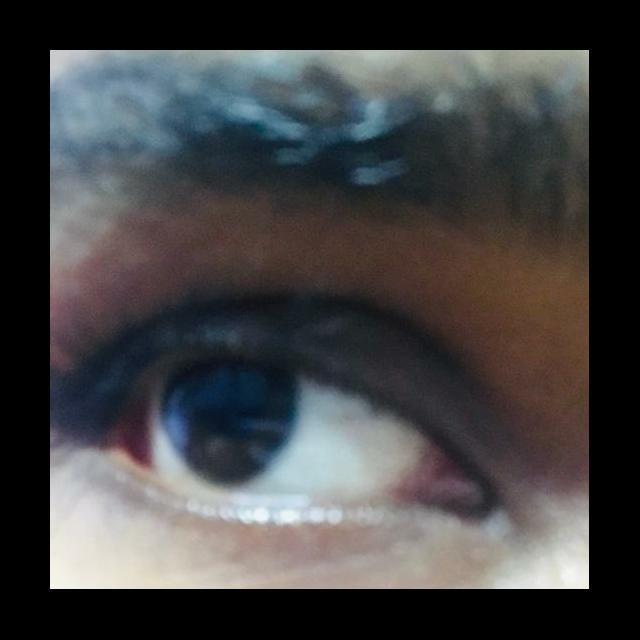eye: (140, 356, 434, 509)
iris: (159, 362, 300, 487)
